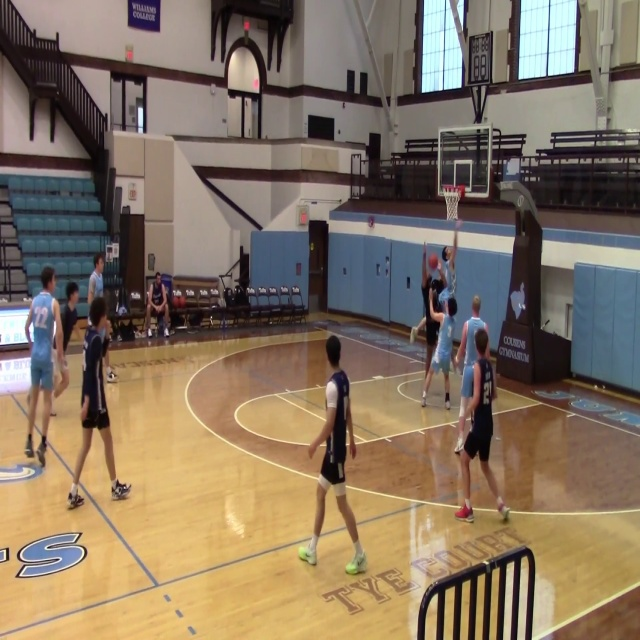Basketball: (428, 254, 439, 270), (443, 246, 453, 261)
